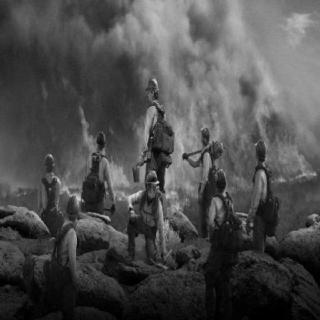Fire: (5, 68, 308, 205)
Smoke: (4, 2, 304, 116)
other: (122, 72, 168, 252), (247, 158, 269, 220), (58, 221, 78, 277), (208, 188, 230, 236), (197, 142, 211, 194)
